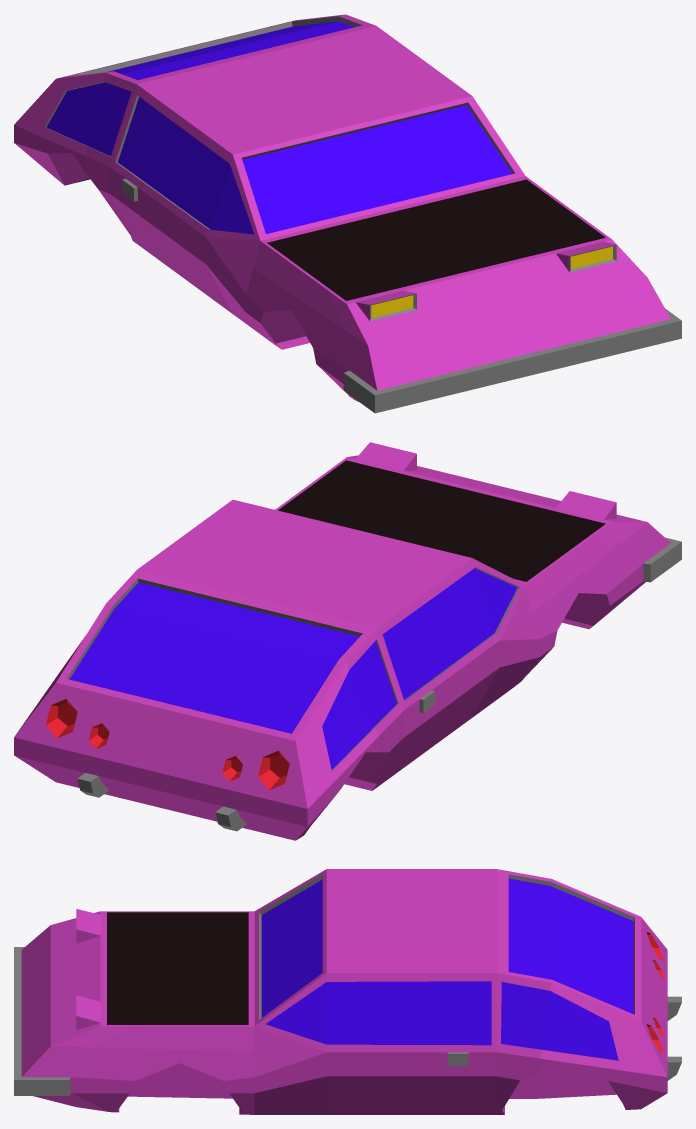
File: JPNCarP 1.fbx
3 renders of one model, top to bottom at view 1: azimuth 30°, elevation 25°; view 2: azimuth 150°, elevation 25°; view 3: azimuth 270°, elevation 25°, orthographic. The views are drawn at different scales.
Visible parts, largest first — view 1: Cube.003; view 2: Cube.003; view 3: Cube.003.
Boxes of the visible parts, bbox=[...] form: Cube.003: bbox=[14, 14, 681, 413]; Cube.003: bbox=[14, 442, 681, 840]; Cube.003: bbox=[14, 869, 681, 1114].
Size of the model in its own units: 200 by 99.33 by 424.
